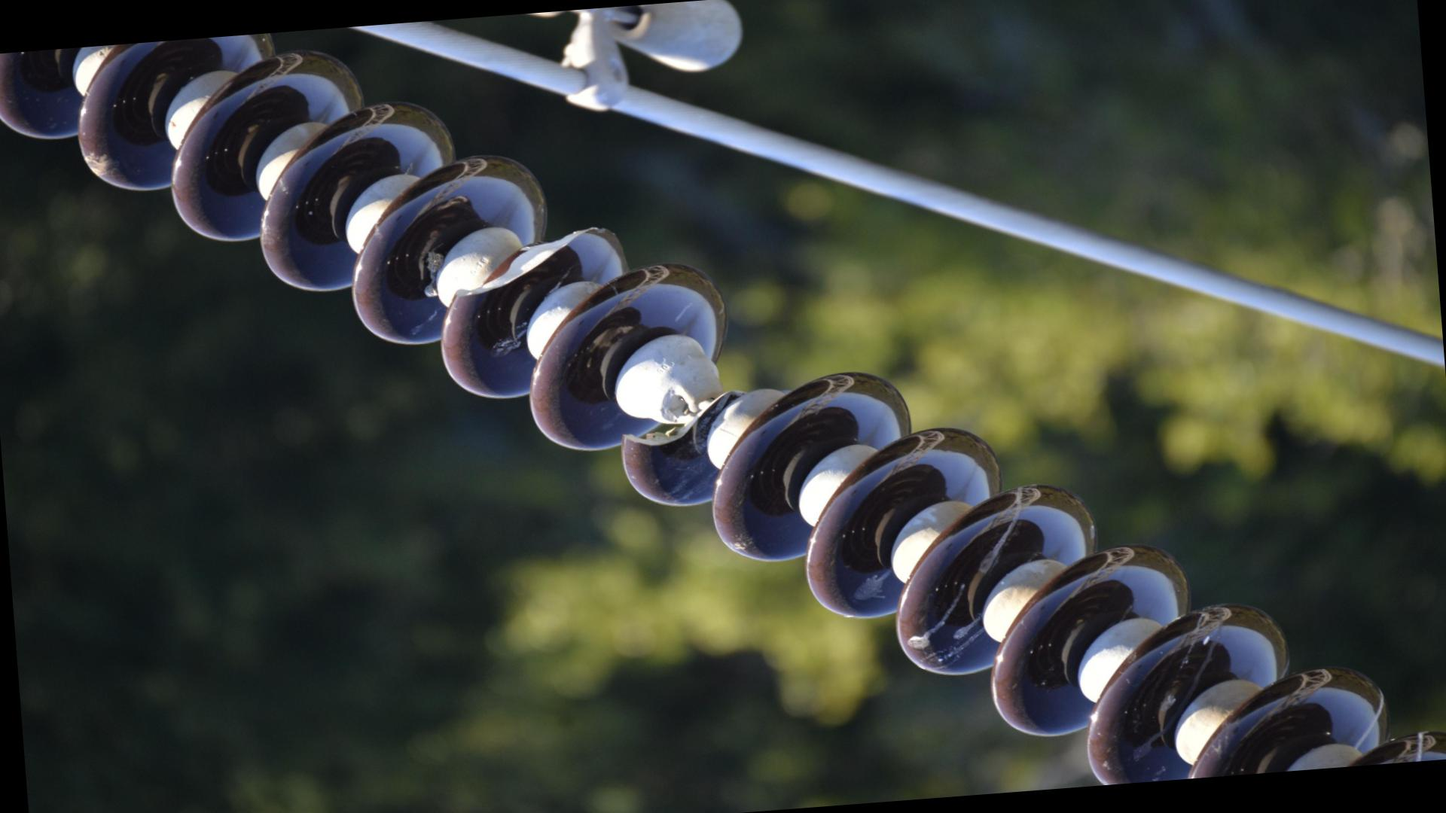damper: (432, 1, 759, 132)
